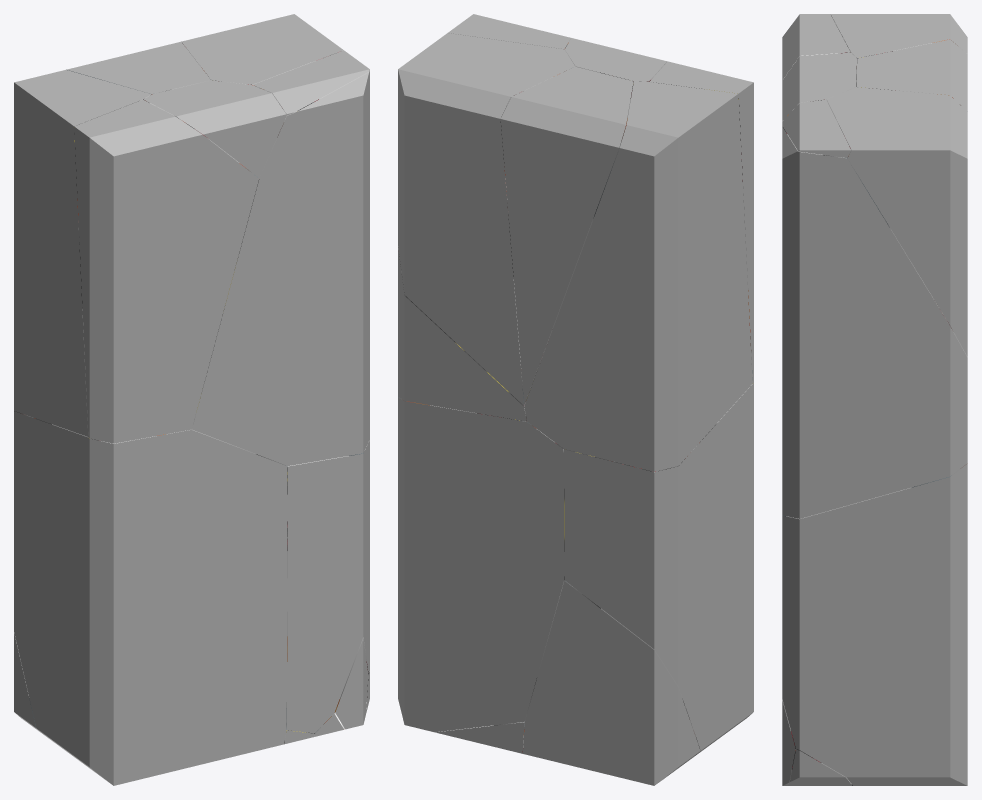
Rendered from Frigde_DEST.fbx.
3 views of the same model, side by side, from view 1: azimuth 30°, elevation 25°; view 2: azimuth 150°, elevation 25°; view 3: azimuth 270°, elevation 25° (orthographic).
Parts seen in each view (by area): view 1: model:mesh166077996_cell.002, model:mesh166077996_cell.010, model:mesh166077996_cell.004, model:mesh166077996_cell.001, model:mesh166077996_cell.006, model:mesh166077996_cell.005, model:mesh166077996_cell.008, model:mesh166077996_cell, model:mesh166077996_cell.011, model:mesh166077996_cell.013, model:mesh166077996_cell.003; view 2: model:mesh166077996_cell.001, model:mesh166077996_cell.006, model:mesh166077996_cell.002, model:mesh166077996_cell.008, model:mesh166077996_cell, model:mesh166077996_cell.003, model:mesh166077996_cell.010, model:mesh166077996_cell.004, model:mesh166077996_cell.005, model:mesh166077996_cell.011, model:mesh166077996_cell.012; view 3: model:mesh166077996_cell.006, model:mesh166077996_cell.010, model:mesh166077996_cell.008, model:mesh166077996_cell, model:mesh166077996_cell.001, model:mesh166077996_cell.005, model:mesh166077996_cell.011, model:mesh166077996_cell.004, model:mesh166077996_cell.007, model:mesh166077996_cell.013.
Part boxes in pixels (x1,y1,x2,y2): model:mesh166077996_cell.002: (14, 411, 287, 785); model:mesh166077996_cell.010: (192, 71, 369, 465); model:mesh166077996_cell.004: (74, 100, 258, 443); model:mesh166077996_cell.001: (14, 70, 151, 436); model:mesh166077996_cell.006: (286, 440, 369, 733); model:mesh166077996_cell.005: (143, 80, 286, 177); model:mesh166077996_cell.008: (181, 14, 343, 84); model:mesh166077996_cell: (66, 41, 210, 94); model:mesh166077996_cell.011: (252, 50, 369, 115); model:mesh166077996_cell.013: (335, 639, 368, 729); model:mesh166077996_cell.003: (14, 632, 54, 742); model:mesh166077996_cell.001: (524, 81, 752, 471); model:mesh166077996_cell.006: (398, 397, 564, 732); model:mesh166077996_cell.002: (564, 383, 753, 757); model:mesh166077996_cell.008: (398, 33, 575, 405); model:mesh166077996_cell: (500, 66, 633, 404); model:mesh166077996_cell.003: (523, 581, 700, 785); model:mesh166077996_cell.010: (398, 246, 526, 421); model:mesh166077996_cell.004: (649, 61, 753, 383); model:mesh166077996_cell.005: (564, 38, 666, 81); model:mesh166077996_cell.011: (448, 14, 570, 49); model:mesh166077996_cell.012: (435, 722, 524, 753); model:mesh166077996_cell.006: (782, 463, 967, 785); model:mesh166077996_cell.010: (782, 126, 967, 518); model:mesh166077996_cell.008: (827, 87, 967, 356); model:mesh166077996_cell: (856, 39, 967, 111); model:mesh166077996_cell.001: (830, 14, 967, 59); model:mesh166077996_cell.005: (782, 52, 856, 120); model:mesh166077996_cell.011: (782, 99, 851, 157); model:mesh166077996_cell.004: (782, 14, 850, 79); model:mesh166077996_cell.007: (787, 749, 852, 785); model:mesh166077996_cell.013: (782, 701, 795, 785).
Size of the model in its own units: 2.54 by 5.59 by 1.46.
